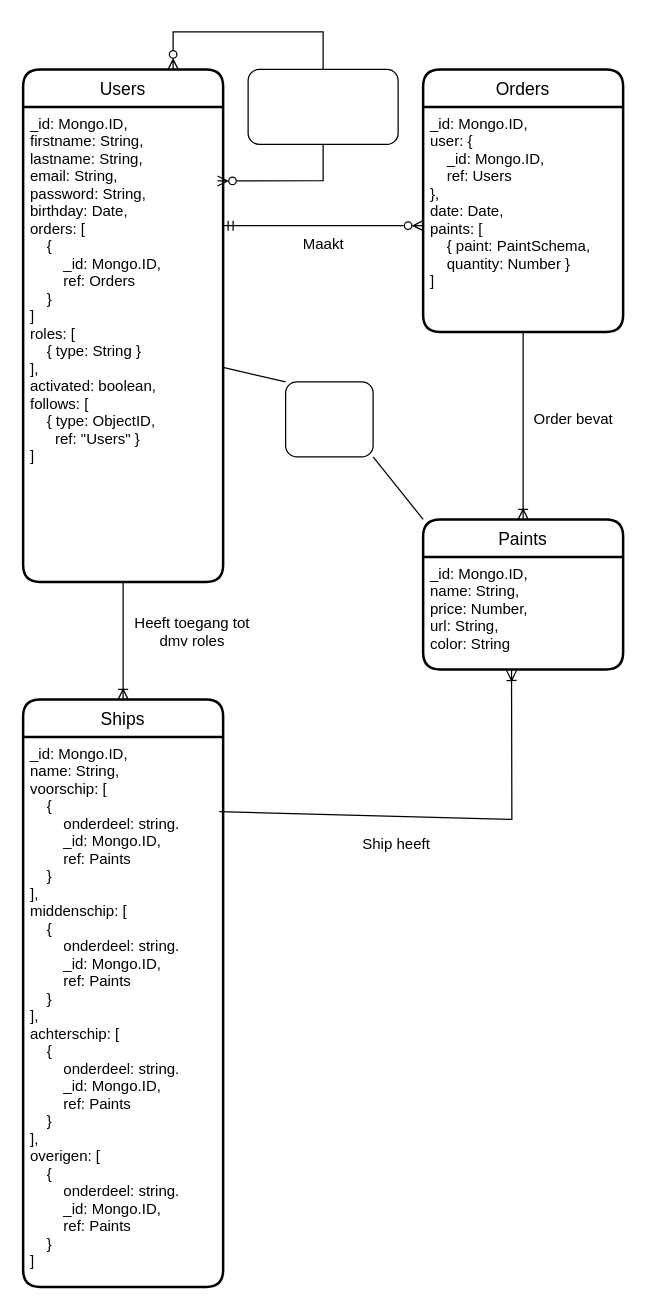
The diagram is 645 pixels wide and 1310 high, and some of its shapes have lost their labels. Here are the shapes that lost their labels. From the top down, the centre of each, then its label:
At [322,106]: "Follows user to see their orders".
At [328,419]: "Admin manages paints".
